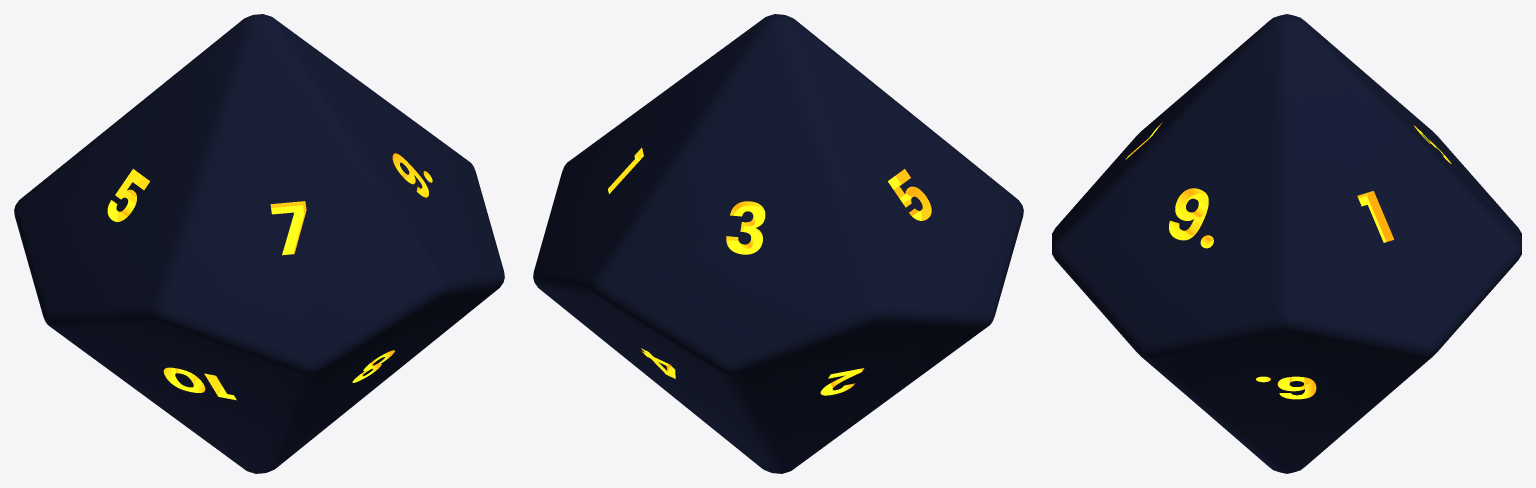
3 views of the same model, side by side, from view 1: azimuth 30°, elevation 25°; view 2: azimuth 150°, elevation 25°; view 3: azimuth 270°, elevation 25° (orthographic).
Parts seen in each view (by area): view 1: MP_D10; view 2: MP_D10; view 3: MP_D10.
Part boxes in pixels (x1,y1,x2,y2): MP_D10: (14,14,504,473); MP_D10: (533,14,1023,473); MP_D10: (1052,14,1521,473).
Size of the model in its own units: 0.9872 by 1 by 0.9408.
